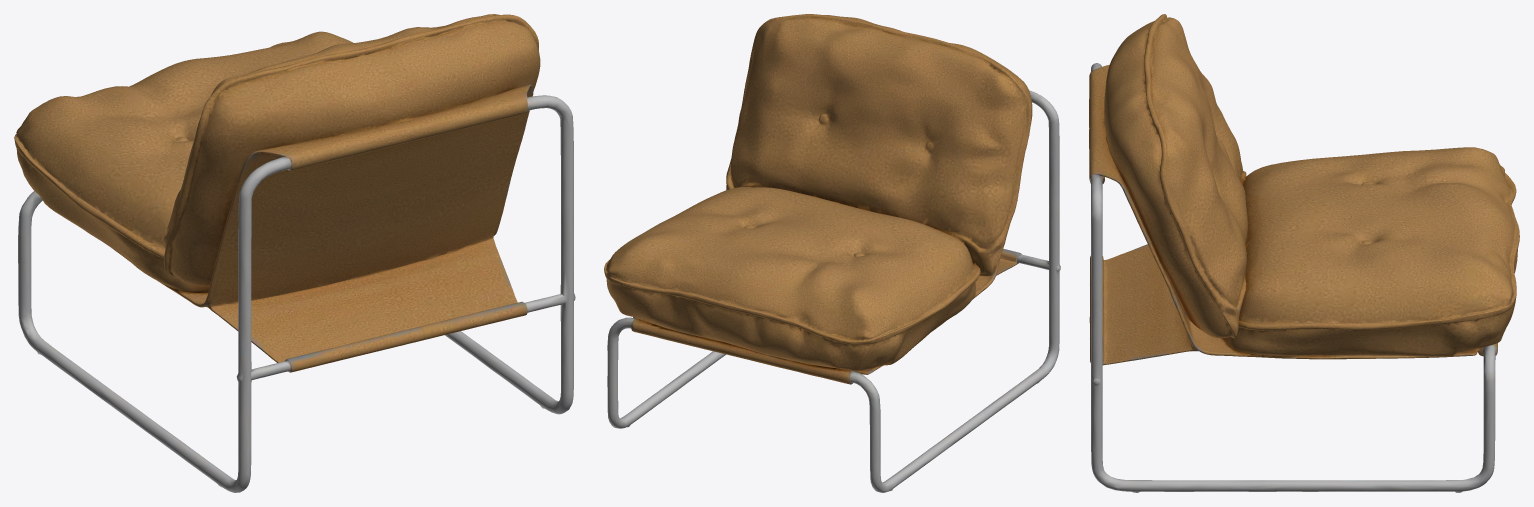
Rendered from armchair.glb.
3 views of the same model, side by side, from view 1: azimuth 30°, elevation 25°; view 2: azimuth 150°, elevation 25°; view 3: azimuth 270°, elevation 25° (orthographic). The views are drawn at different scales.
Visible parts, largest first — view 1: tripo_node_f454b1dc-a547-447d-a398-20fbfa8032ba; view 2: tripo_node_f454b1dc-a547-447d-a398-20fbfa8032ba; view 3: tripo_node_f454b1dc-a547-447d-a398-20fbfa8032ba.
Part boxes in pixels (box(x1,y1,x2,y2)): tripo_node_f454b1dc-a547-447d-a398-20fbfa8032ba: box(14, 14, 575, 492); tripo_node_f454b1dc-a547-447d-a398-20fbfa8032ba: box(604, 14, 1060, 492); tripo_node_f454b1dc-a547-447d-a398-20fbfa8032ba: box(1089, 14, 1519, 492).
Size of the model in its own units: 0.7231 by 0.77 by 0.847.
Materials: 1 (1 with a texture image).
